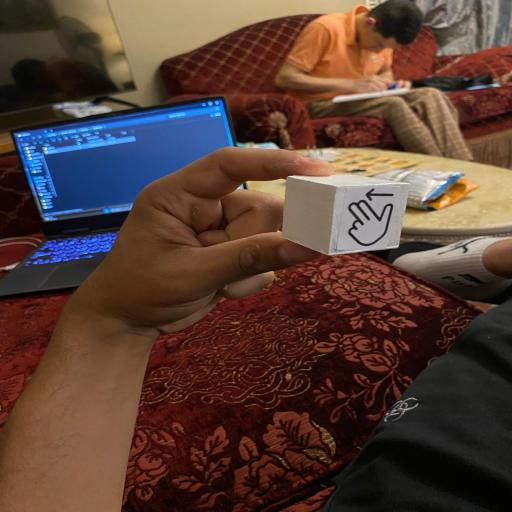LeftSwipe: (280, 172, 407, 255)
